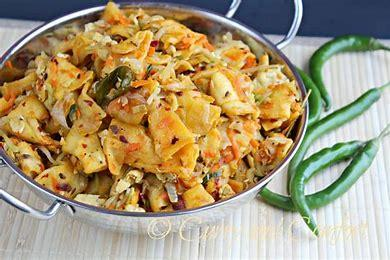Kottu: (11, 8, 292, 197)
